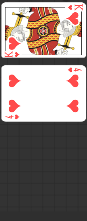4H: (67, 66, 84, 73)
